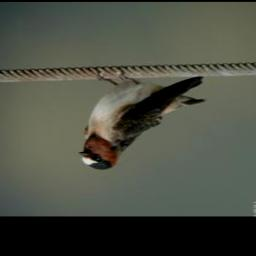Swallow: (75, 70, 209, 175)
